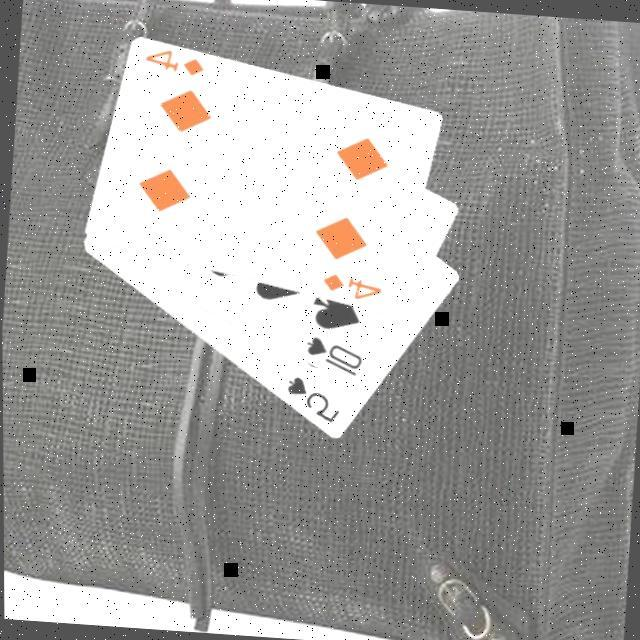10S: (300, 331, 368, 378)
4D: (318, 267, 386, 302), (141, 44, 209, 78)
5S: (282, 370, 344, 424)
